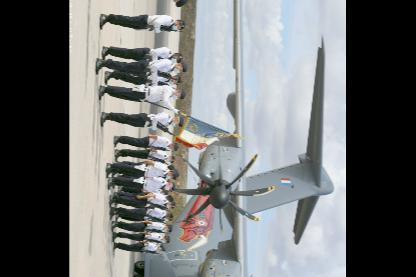A400M: (130, 0, 336, 276)
